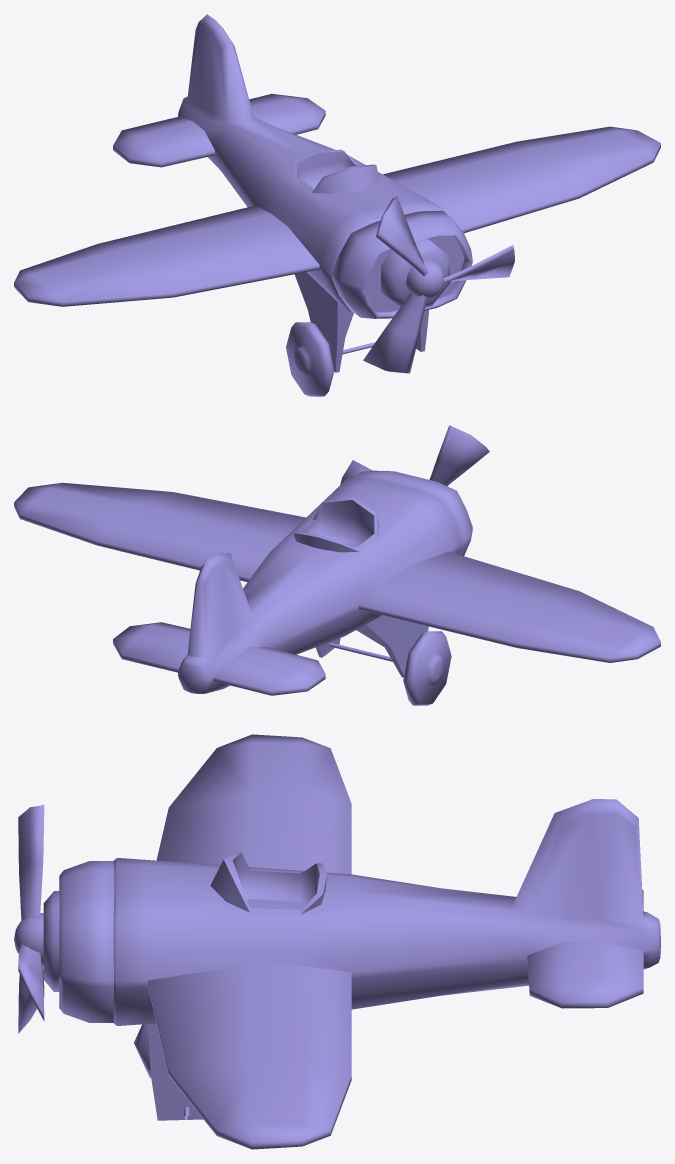
File: Airplane.FBX
3 renders of one model, top to bottom at view 1: azimuth 30°, elevation 25°; view 2: azimuth 150°, elevation 25°; view 3: azimuth 270°, elevation 25°, orthographic. The views are drawn at different scales.
Visible parts, largest first — view 1: Airplane; view 2: Airplane; view 3: Airplane.
Boxes of the visible parts, x1,y1,x2,y2 form: Airplane: [14, 14, 660, 396]; Airplane: [14, 425, 660, 705]; Airplane: [14, 734, 660, 1149].
Size of the model in its own units: 47.13 by 17.81 by 31.52.
